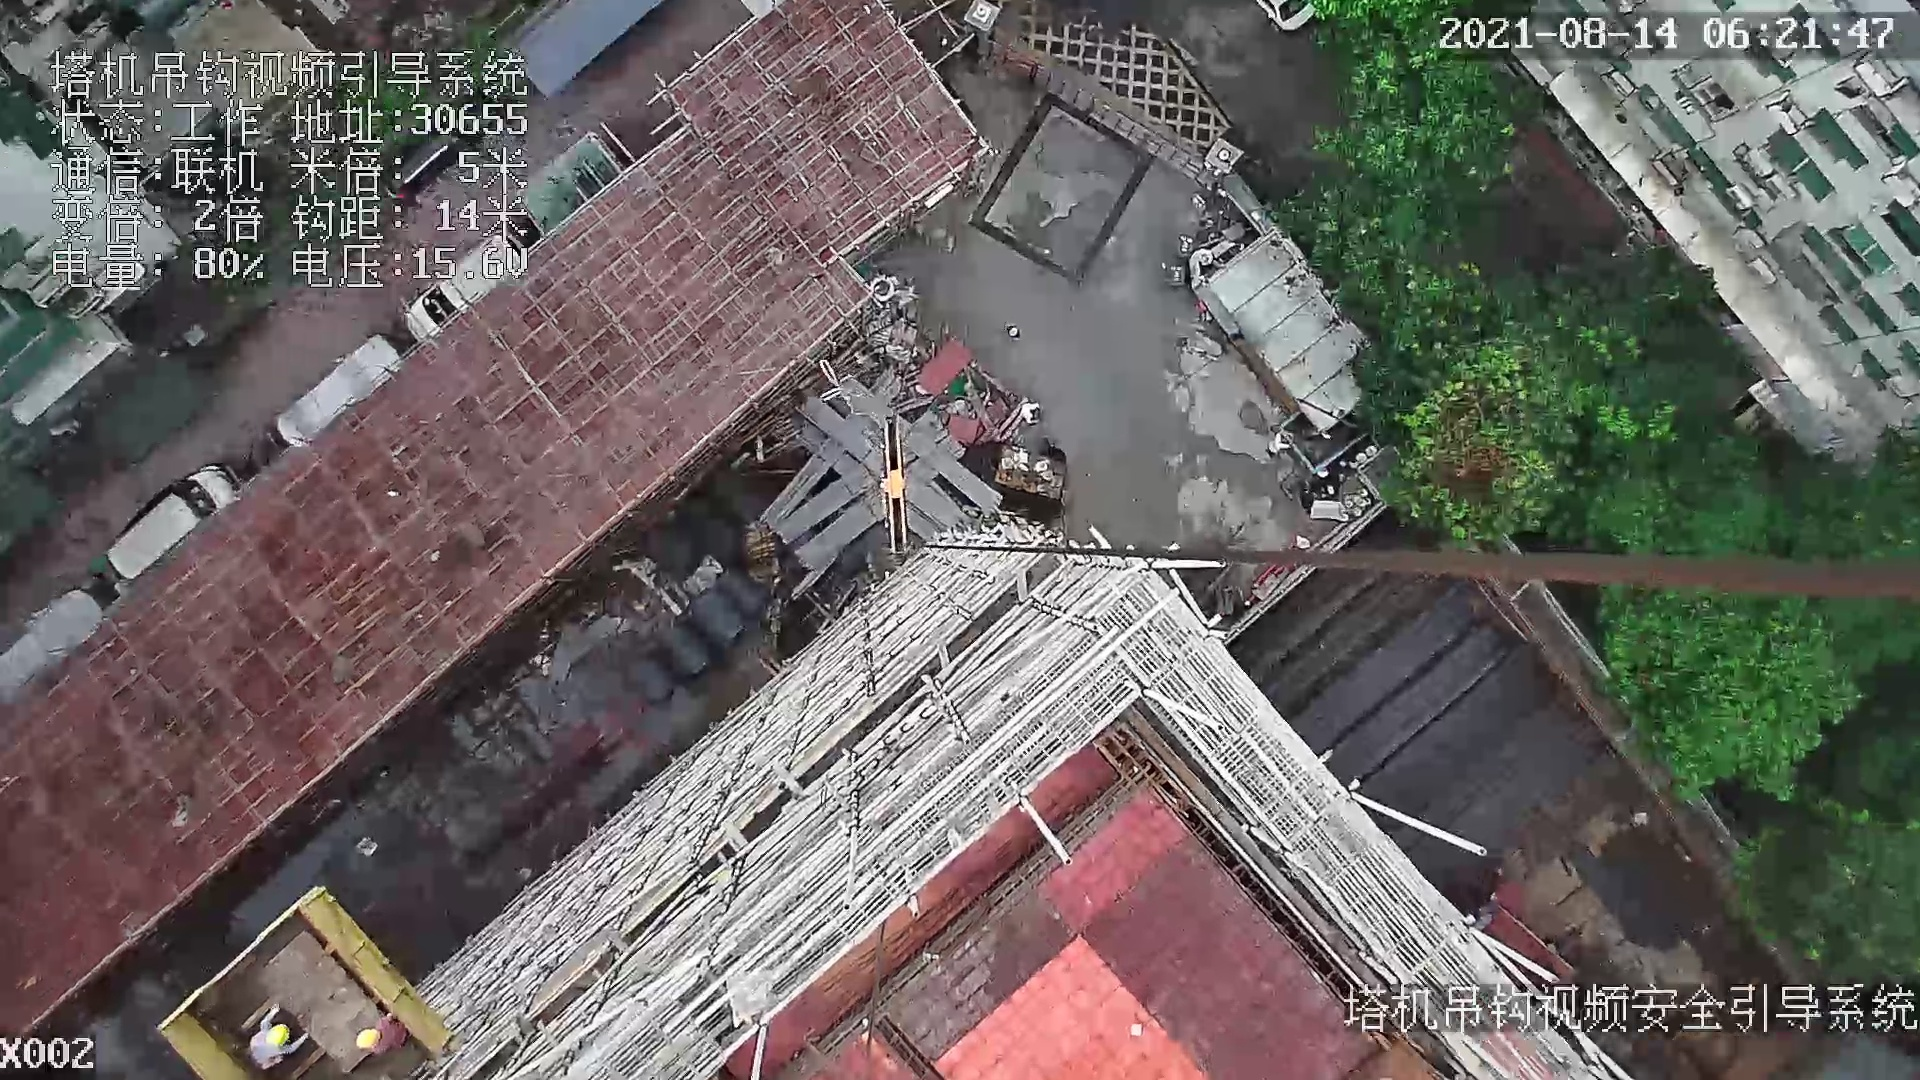helmet: (265, 1024, 290, 1050), (355, 1029, 381, 1050)
person: (232, 1008, 305, 1069), (345, 1013, 406, 1051)
